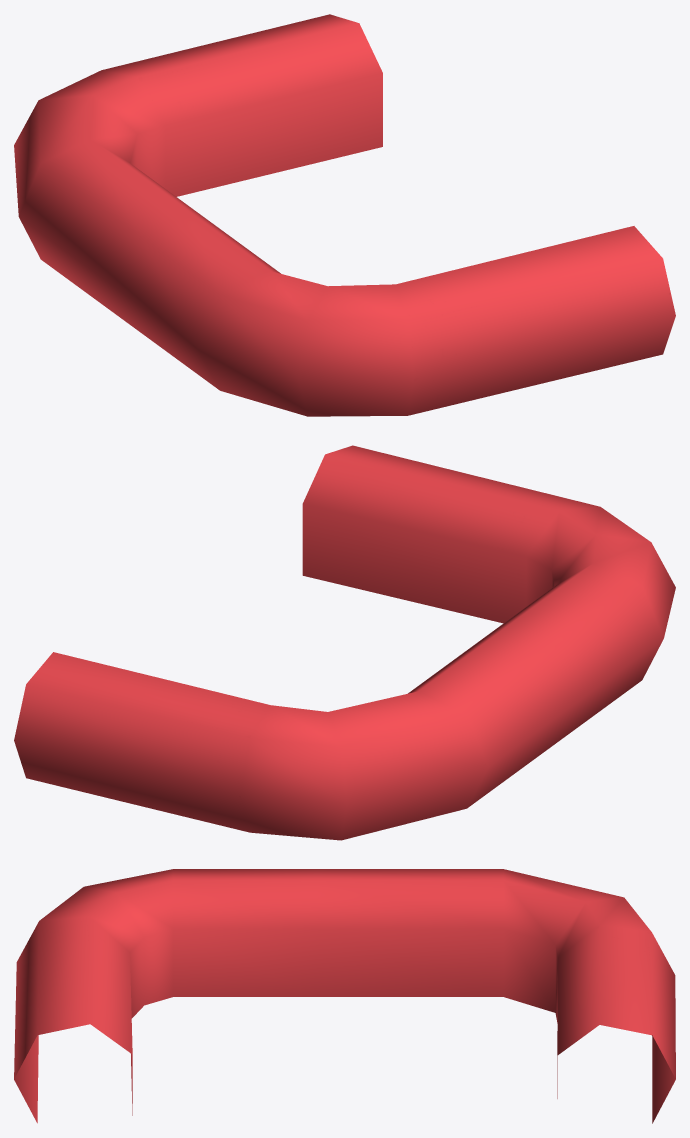
Rendered from Norris_Maze_Red_Wire_C.fbx.
The picture shows the model from 3 angles, top to bottom: view 1: azimuth 30°, elevation 25°; view 2: azimuth 150°, elevation 25°; view 3: azimuth 270°, elevation 25°; orthographic projection. The views are drawn at different scales.
Parts seen in each view (by area): view 1: WireC5; view 2: WireC5; view 3: WireC5.
Part boxes in pixels (x1,y1,x2,y2): WireC5: (14,14,675,416); WireC5: (14,445,675,840); WireC5: (14,869,675,1123).
Bounding box in the file's own units: 3.79 × 0.9939 × 6.
